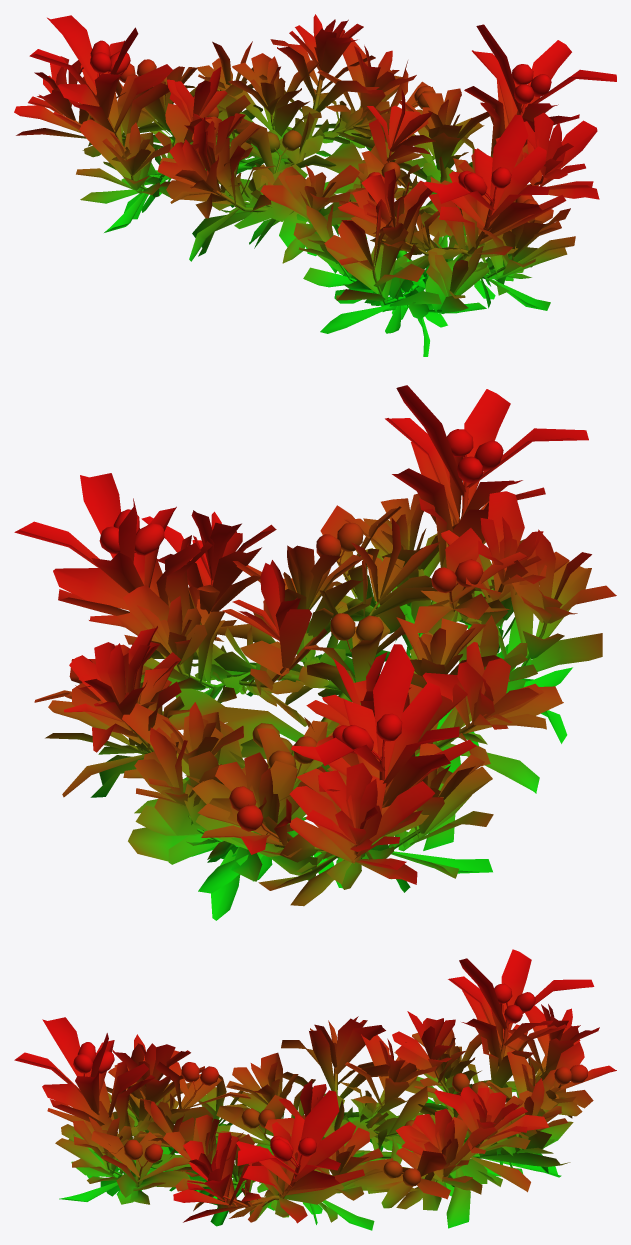
The model's file is Alpine Bearberry_LOD3_Var2_xb0gdazqx.fbx.
3 renders of one model, top to bottom at view 1: azimuth 30°, elevation 25°; view 2: azimuth 150°, elevation 25°; view 3: azimuth 270°, elevation 25°, orthographic. The views are drawn at different scales.
Parts seen in each view (by area): view 1: _q7oy_Var2_LOD3; view 2: _q7oy_Var2_LOD3; view 3: _q7oy_Var2_LOD3.
Boxes of the visible parts, x1=… form: _q7oy_Var2_LOD3: x1=14, y1=14, x2=616, y2=356; _q7oy_Var2_LOD3: x1=14, y1=385, x2=616, y2=920; _q7oy_Var2_LOD3: x1=14, y1=949, x2=616, y2=1230.
Size of the model in its own units: 34.84 by 17.24 by 44.94.
